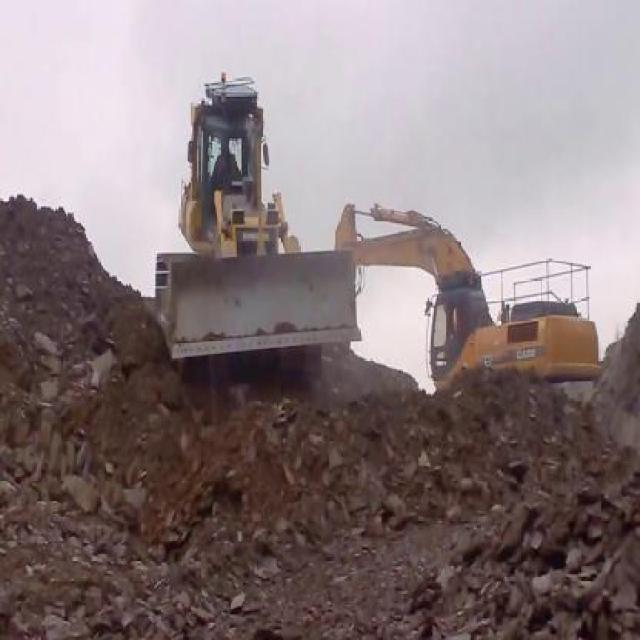excavator: (337, 202, 601, 390)
